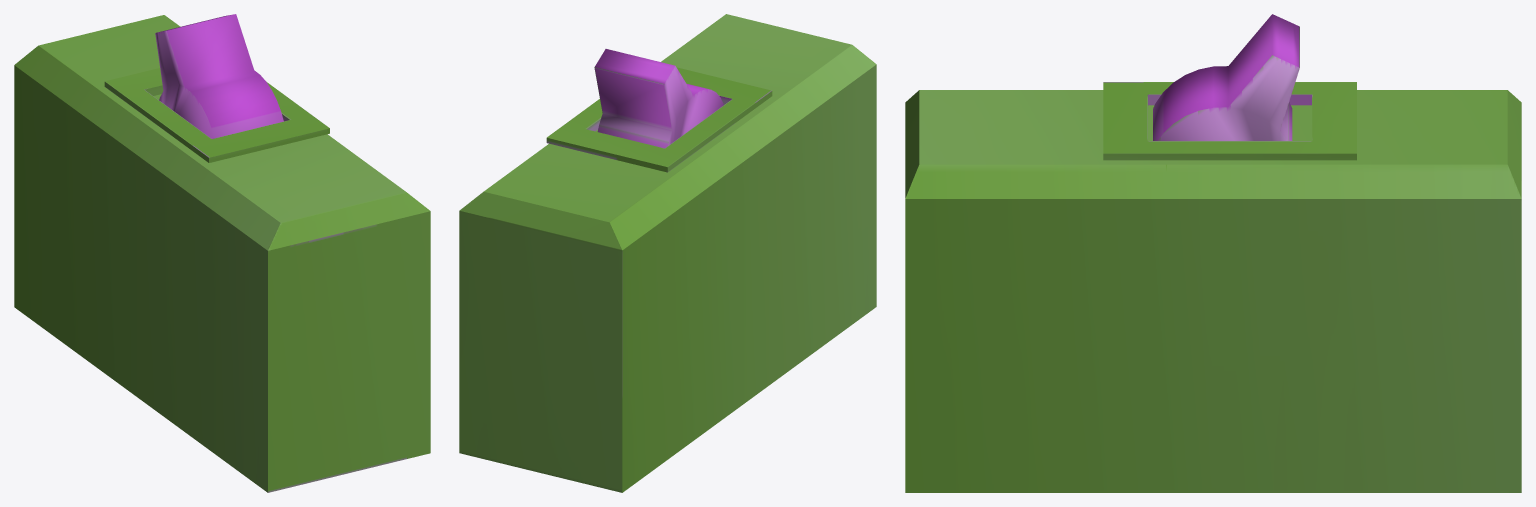
File: littleSwitch 1.fbx
3 views of the same model, side by side, from view 1: azimuth 30°, elevation 25°; view 2: azimuth 150°, elevation 25°; view 3: azimuth 270°, elevation 25° (orthographic). The views are drawn at different scales.
Parts seen in each view (by area): view 1: Cube.002; view 2: Cube.002; view 3: Cube.002.
Part boxes in pixels (x1=…): Cube.002: x1=14, y1=14, x2=430, y2=492; Cube.002: x1=459, y1=14, x2=876, y2=492; Cube.002: x1=905, y1=14, x2=1521, y2=492.
Bounding box in the file's own units: 40.03 × 79.73 × 108.
